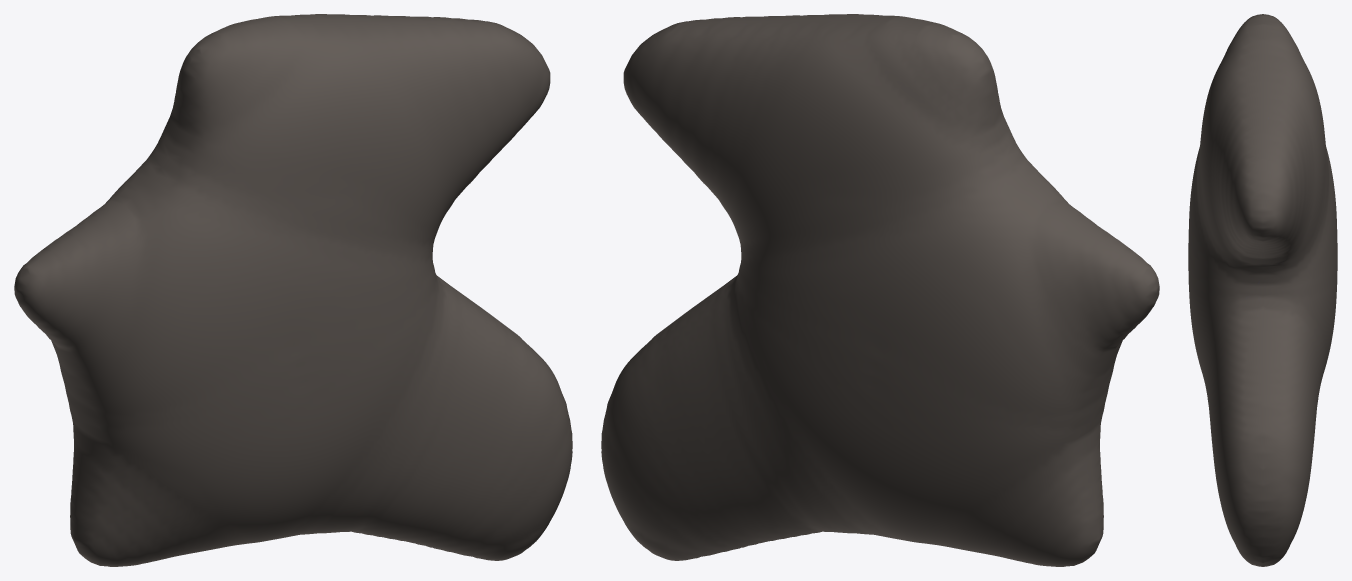
The model's file is particle2.glb.
The picture shows the model from 3 angles, left to right: view 1: azimuth 30°, elevation 25°; view 2: azimuth 150°, elevation 25°; view 3: azimuth 270°, elevation 25°; orthographic projection. The views are drawn at different scales.
Parts seen in each view (by area): view 1: mesh_id35; view 2: mesh_id35; view 3: mesh_id35.
Boxes of the visible parts, x1,y1,x2,y2 form: mesh_id35: [14, 14, 572, 566]; mesh_id35: [601, 14, 1159, 566]; mesh_id35: [1188, 14, 1337, 566].
Size of the model in its own units: 0.4391 by 0.4534 by 0.1371.
Materials: 1 (1 with a texture image).
